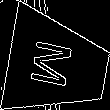M_E: (32, 38, 84, 93)
